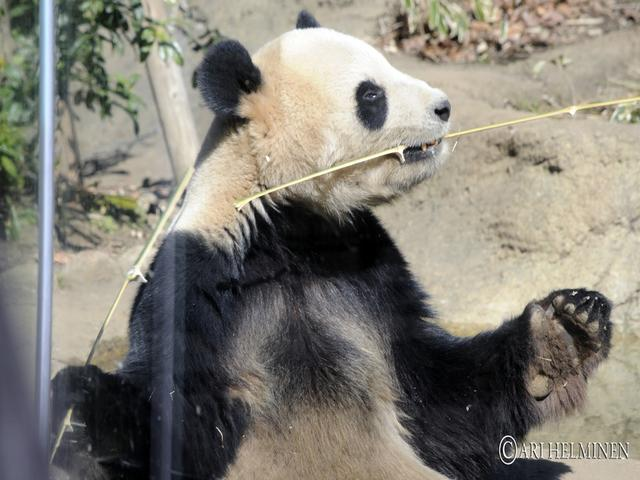panda: (1, 29, 636, 467)
